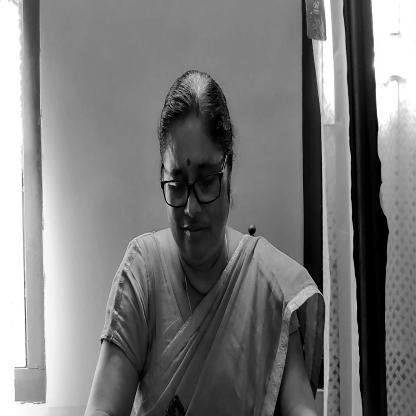Normal: (155, 66, 233, 266)
